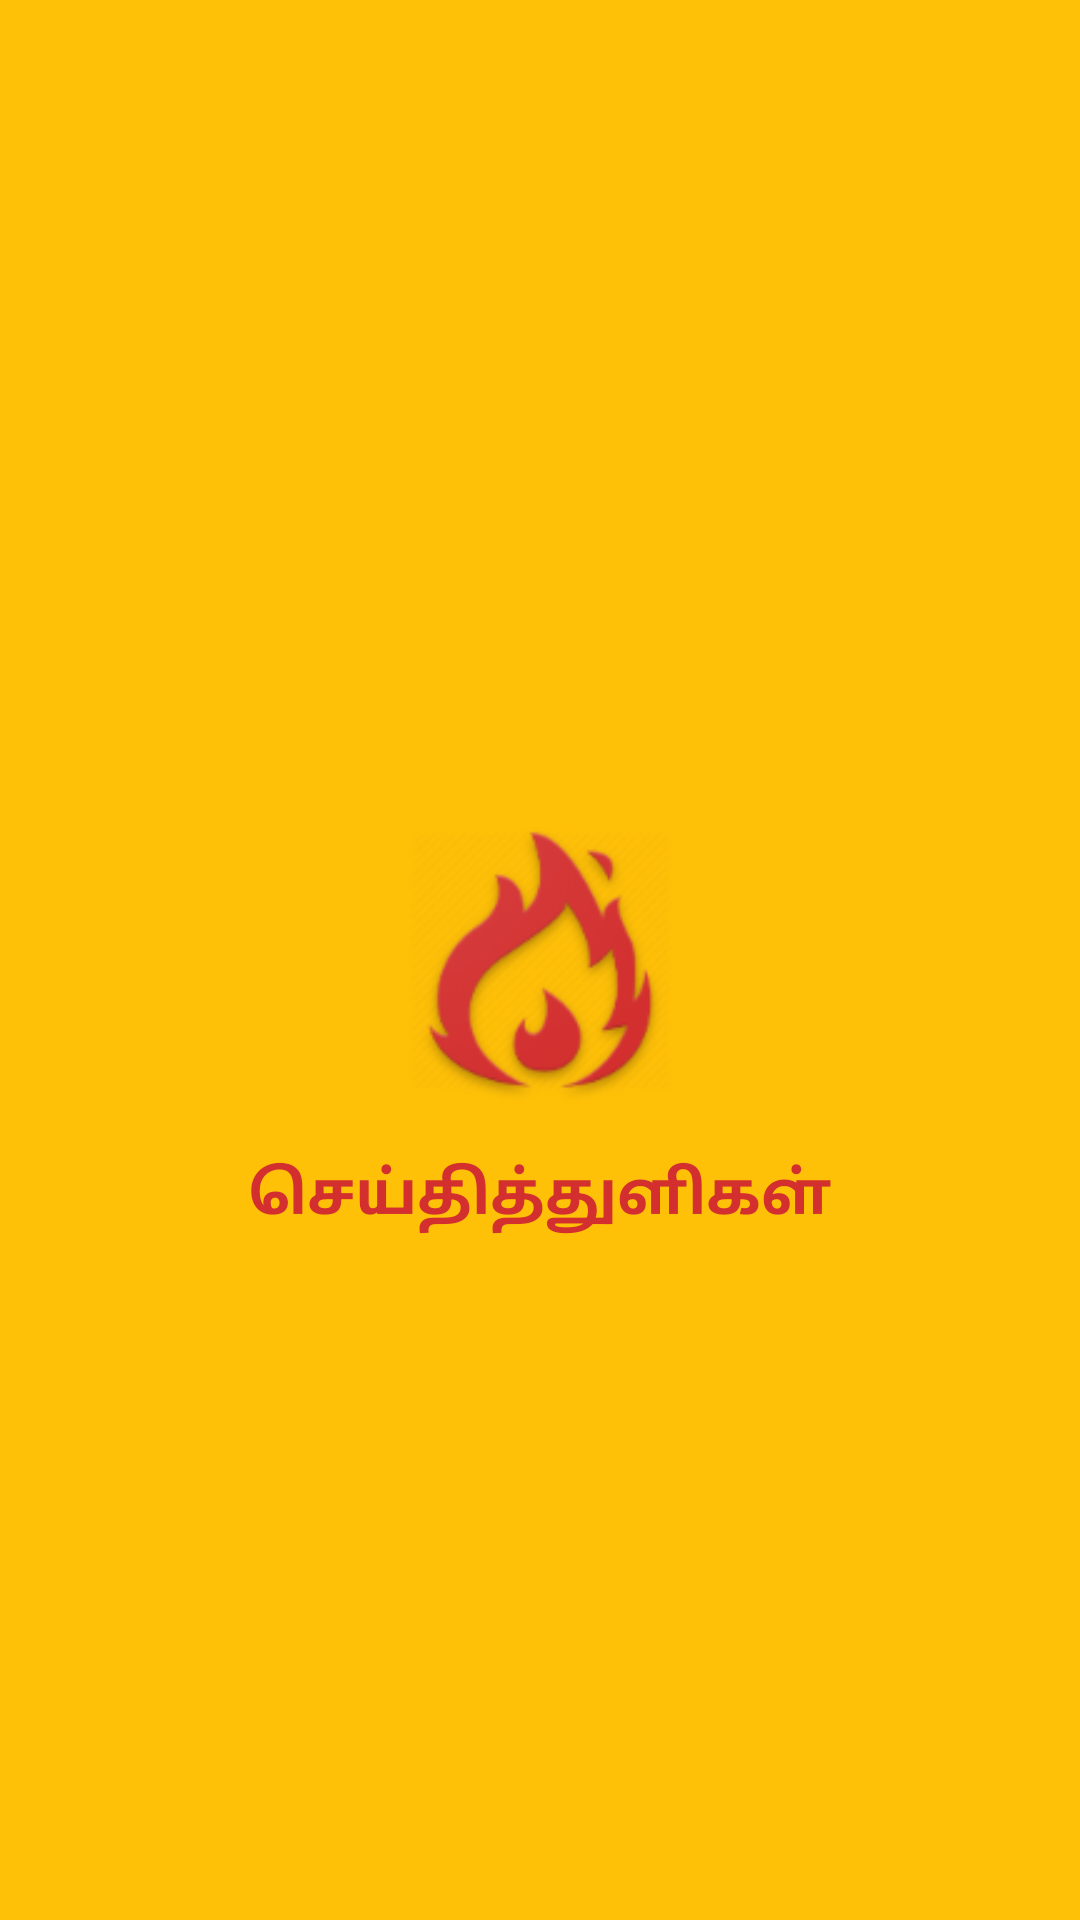

Where icons sit on this 1080 x 1920 app screen, as (x1, y1, x2, y2):
hotnews: (429, 832, 654, 1091)
